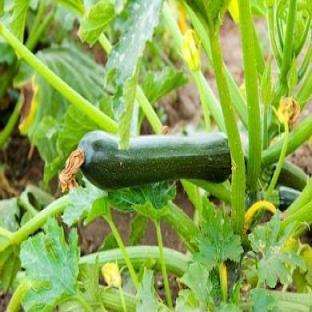Zucchini: (79, 131, 231, 189), (279, 186, 300, 211)
